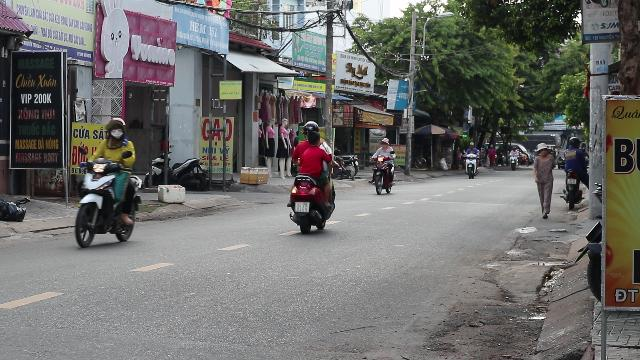helmet: (104, 118, 126, 142), (303, 120, 319, 132)
licenseplate: (295, 202, 309, 212)
motorcyclist: (72, 116, 142, 248), (285, 120, 337, 232)
nohelmet: (305, 130, 321, 146)
